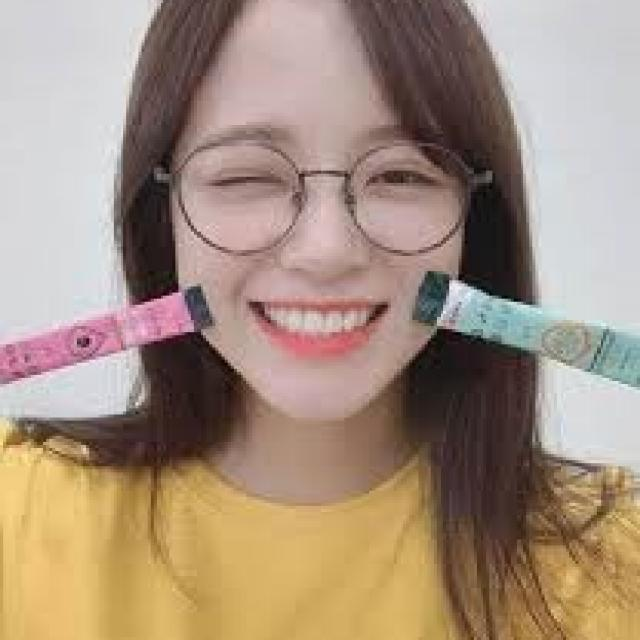Glasses: (138, 128, 508, 262)
